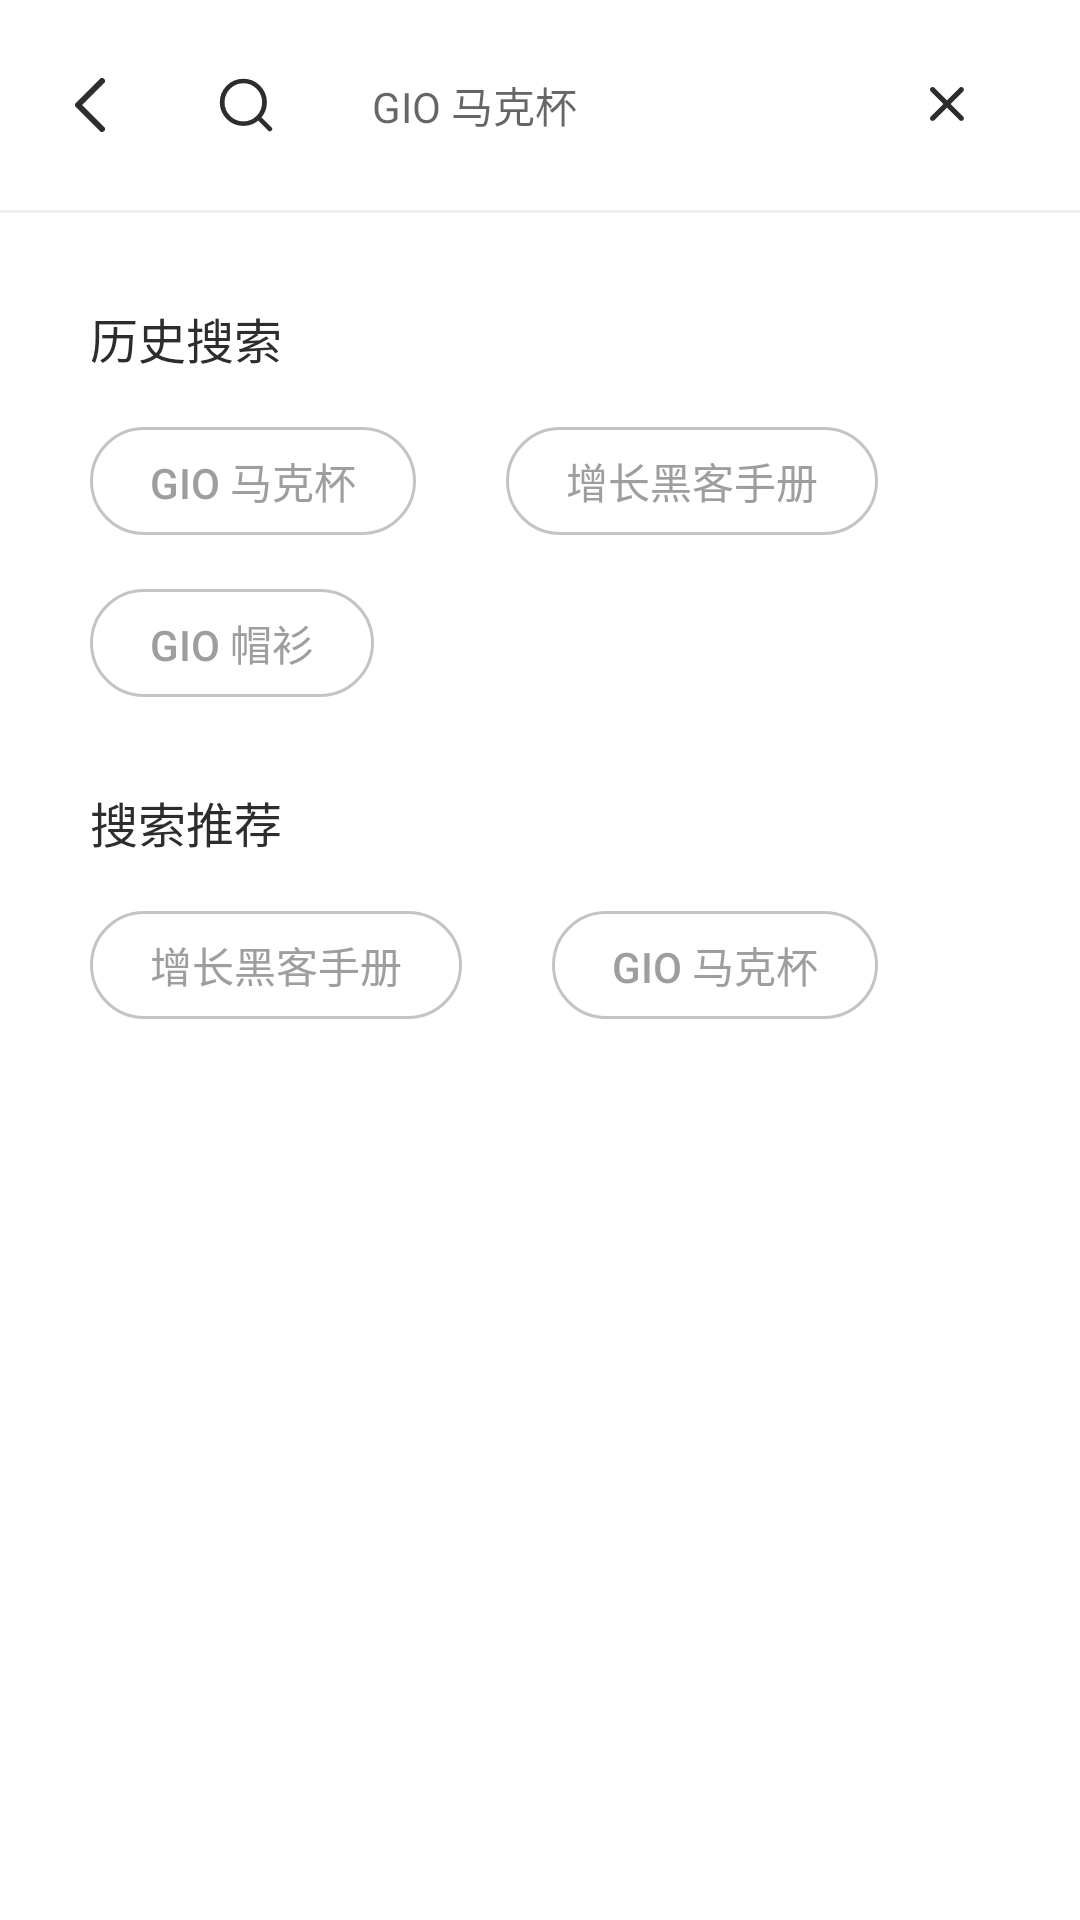

Point at icon controls on the screen. Image size 1080px x 1920px, points as point (x, y).
arrow left: point (90, 105)
clear: point (947, 104)
search: point (246, 105)
